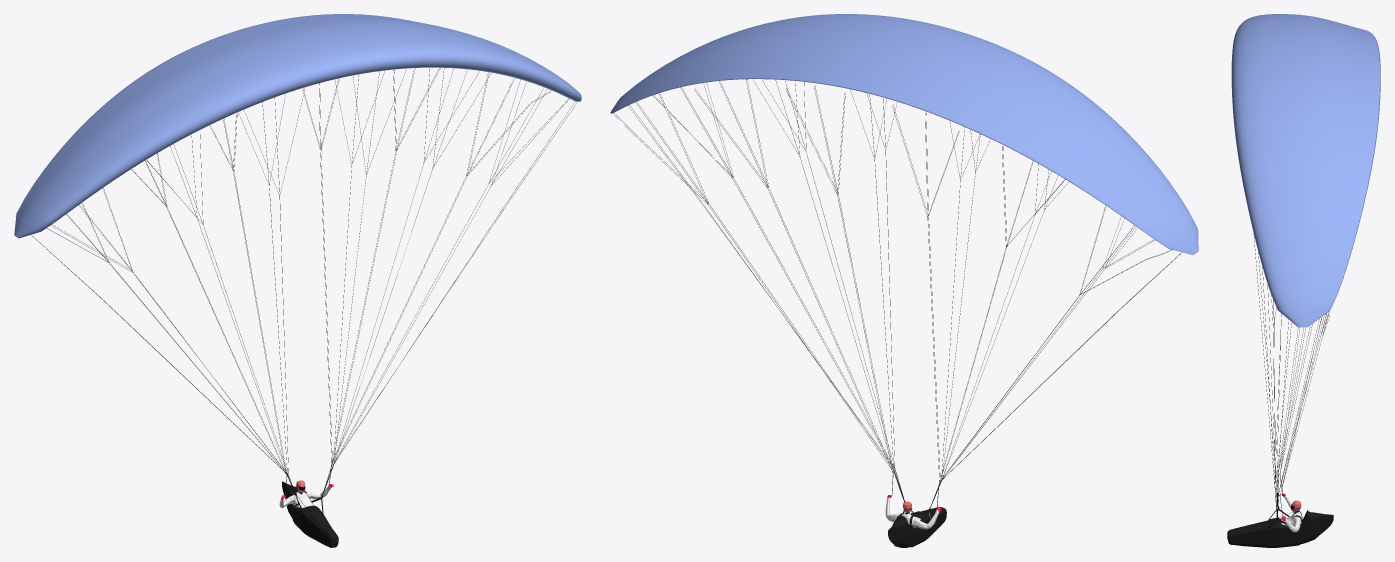
File: glide_model3.glb
3 renders of one model, left to right at view 1: azimuth 30°, elevation 25°; view 2: azimuth 150°, elevation 25°; view 3: azimuth 270°, elevation 25°, orthographic. The views are drawn at different scales.
Parts seen in each view (by area): view 1: parapente; view 2: parapente; view 3: parapente.
Part boxes in pixels (left/top/right/bottom): parapente: left=14, top=14, right=581, bottom=547; parapente: left=610, top=14, right=1198, bottom=547; parapente: left=1227, top=14, right=1380, bottom=547.
Size of the model in its own units: 4.1 by 3.37 by 0.9636.
